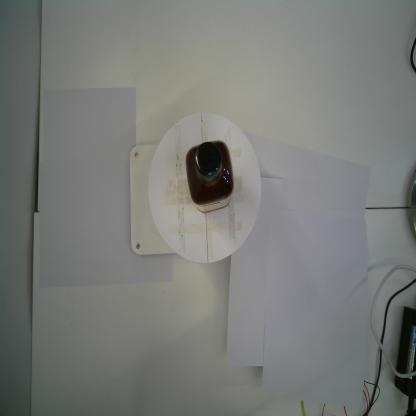Seasoner: (183, 139, 235, 214)
